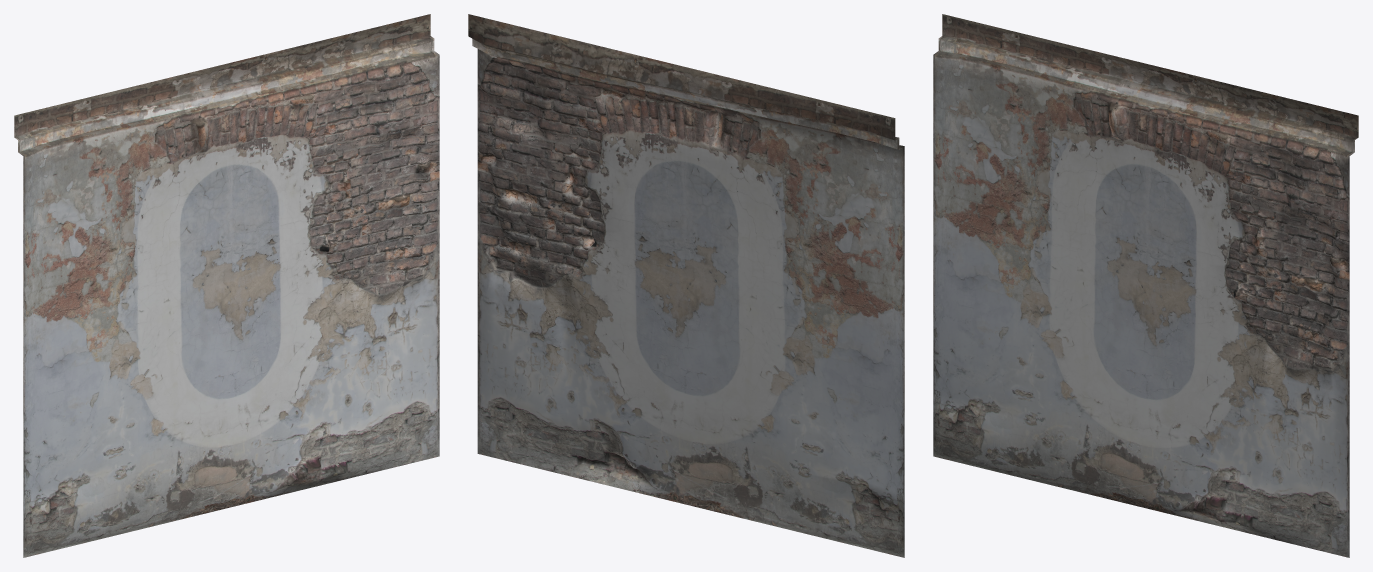
File: sm_Wal_04_03.fbx
The picture shows the model from 3 angles, left to right: view 1: azimuth 30°, elevation 25°; view 2: azimuth 150°, elevation 25°; view 3: azimuth 330°, elevation 25°; orthographic projection. The views are drawn at different scales.
Visible parts, largest first — view 1: sm_Wal_04_03_LOD0; view 2: sm_Wal_04_03_LOD0; view 3: sm_Wal_04_03_LOD0.
Part boxes in pixels (x1,y1,x2,y2): sm_Wal_04_03_LOD0: [14, 14, 439, 557]; sm_Wal_04_03_LOD0: [468, 14, 904, 557]; sm_Wal_04_03_LOD0: [933, 14, 1358, 557].
Bounding box in the file's own units: 28.5 × 350 × 350.
